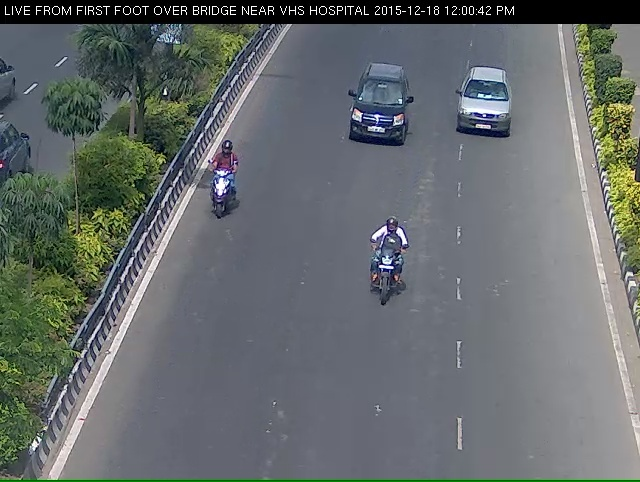Car: (340, 74, 412, 156), (449, 78, 518, 150)
Person: (192, 155, 247, 242), (362, 235, 408, 335)
